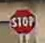stop: (9, 7, 37, 34)
